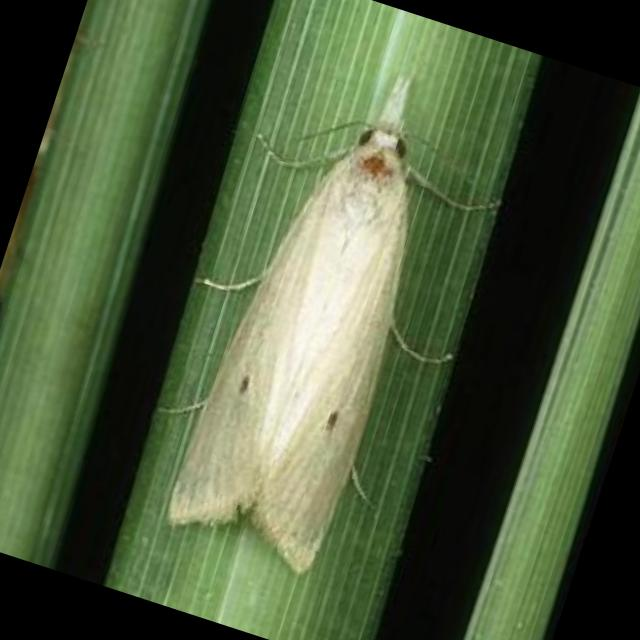stem-borer: (146, 41, 506, 596)
